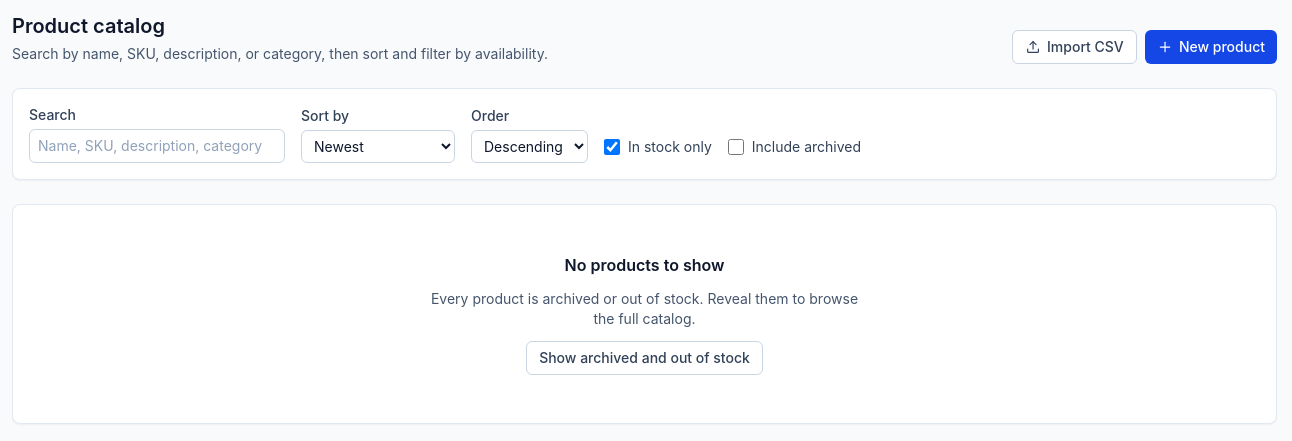
it: CatalogPage › stops filtering by stock when the toggle is cleared
Click the checkbox labelled "In stock only": click(612, 147) [604, 139, 620, 155]
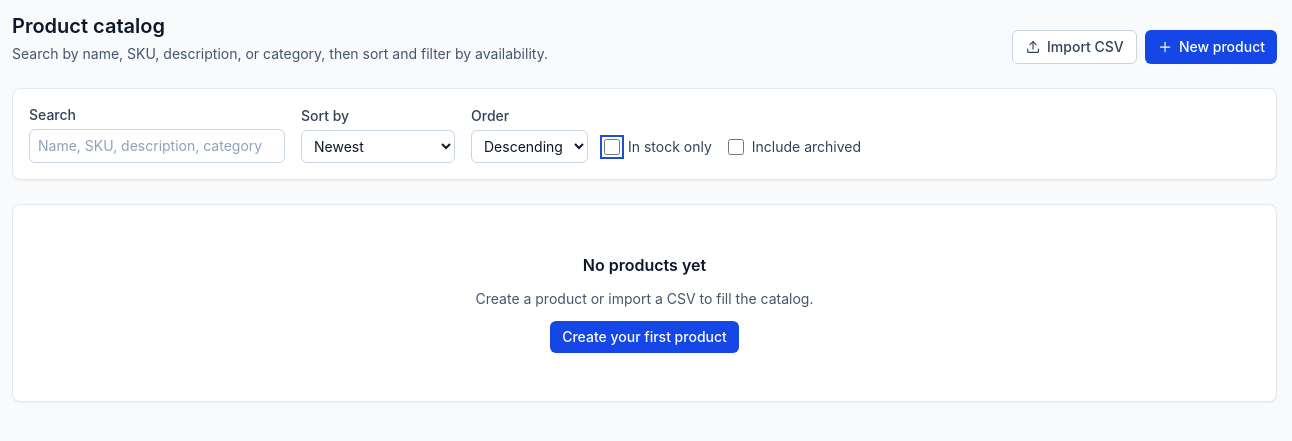
Expected: the button "Create your first product" is shown, [550, 321, 739, 353]
